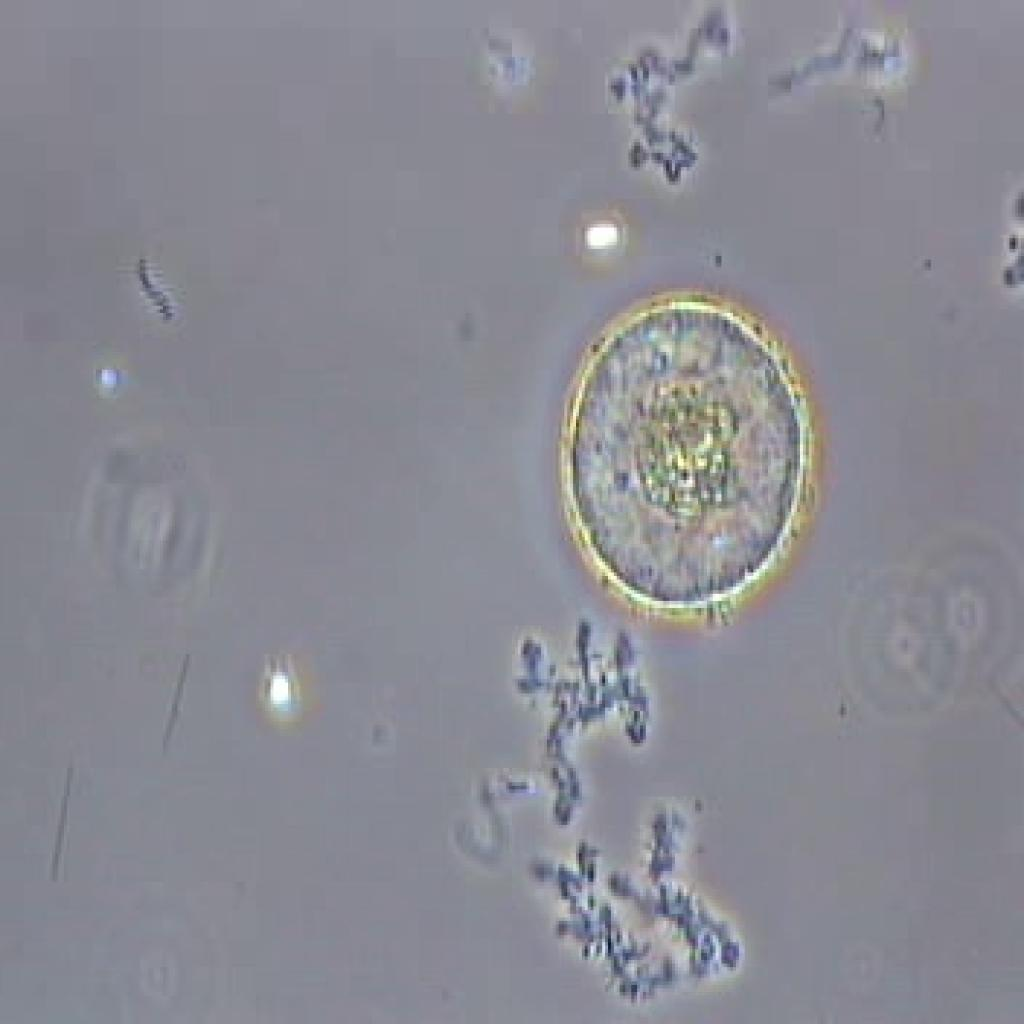Arcella: (542, 276, 830, 656)
